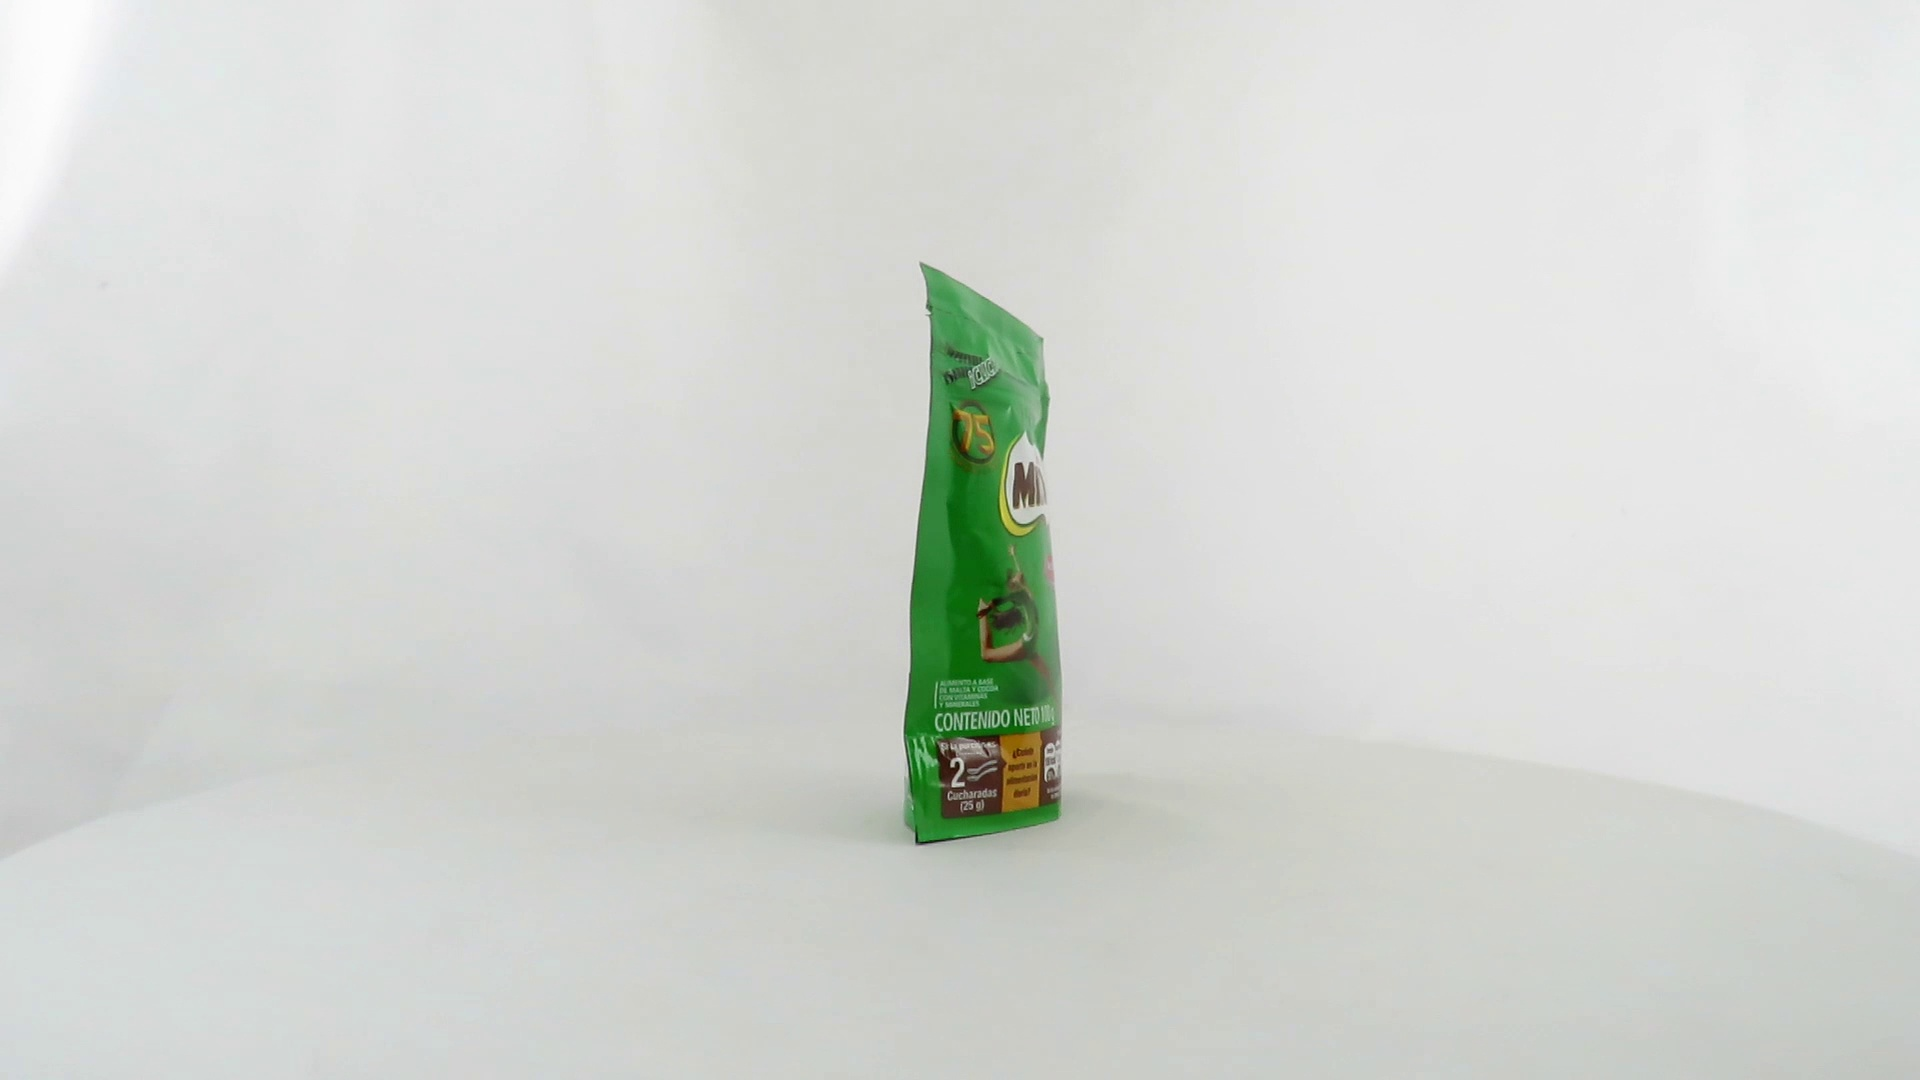COL0170203DYP10000: (894, 257, 1072, 852)
